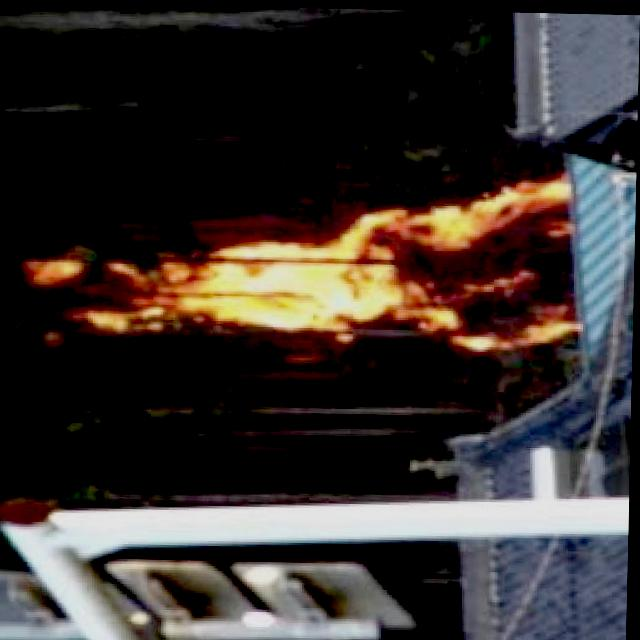Fire: (6, 151, 584, 353)
